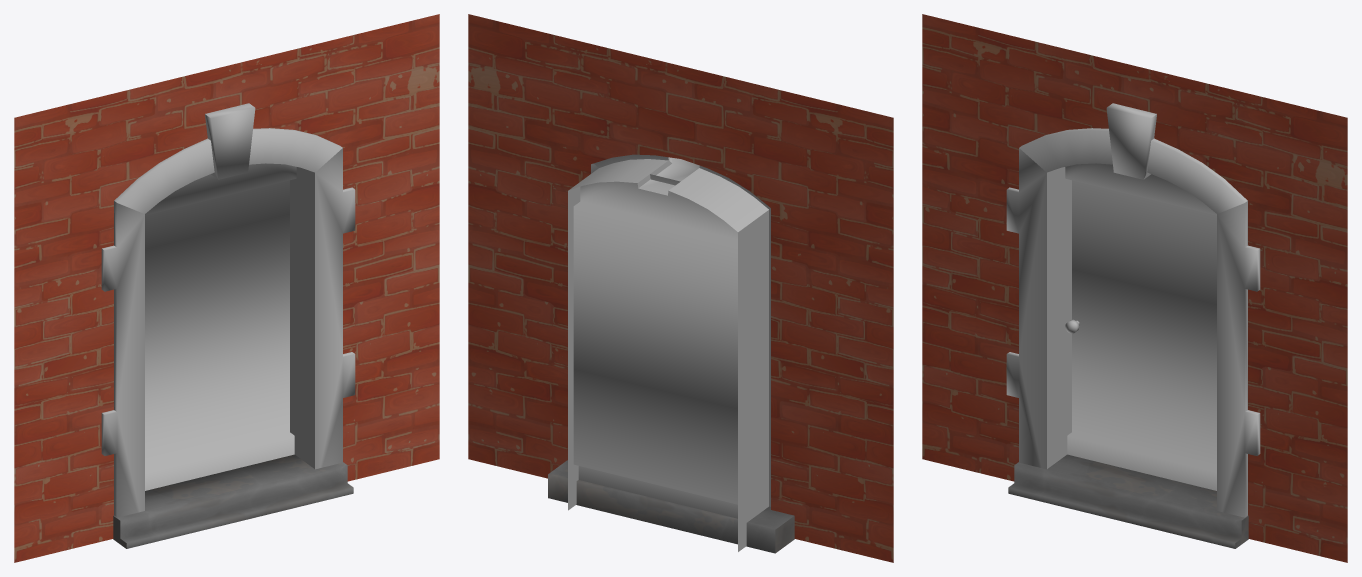
Rendered from Door_01.fbx.
The picture shows the model from 3 angles, left to right: view 1: azimuth 30°, elevation 25°; view 2: azimuth 150°, elevation 25°; view 3: azimuth 330°, elevation 25°; orthographic projection.
Parts seen in each view (by area): view 1: Door_01; view 2: Door_01; view 3: Door_01.
Part boxes in pixels (x1=…): Door_01: x1=14, y1=14, x2=439, y2=562; Door_01: x1=468, y1=14, x2=893, y2=562; Door_01: x1=922, y1=14, x2=1347, y2=562.
Size of the model in its own units: 4 by 4.01 by 0.6695.
